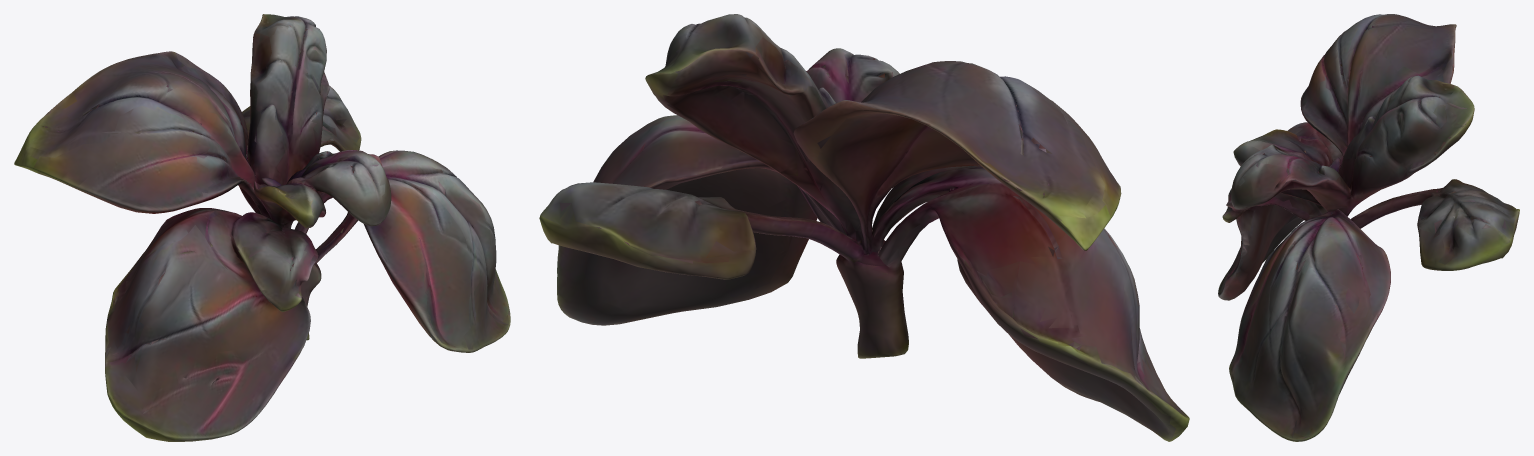
Rendered from Meshy_AI_Purple_Basil_0210153601_texture_decimated.obj.
3 views of the same model, side by side, from view 1: azimuth 30°, elevation 25°; view 2: azimuth 150°, elevation 25°; view 3: azimuth 270°, elevation 25° (orthographic). The views are drawn at different scales.
Visible parts, largest first — view 1: Meshy_AI_Purple_Basil_0210153601_texture; view 2: Meshy_AI_Purple_Basil_0210153601_texture; view 3: Meshy_AI_Purple_Basil_0210153601_texture.
Part boxes in pixels (left/top/right/bottom): Meshy_AI_Purple_Basil_0210153601_texture: left=14, top=14, right=510, bottom=441; Meshy_AI_Purple_Basil_0210153601_texture: left=539, top=14, right=1189, bottom=441; Meshy_AI_Purple_Basil_0210153601_texture: left=1218, top=14, right=1519, bottom=441.
Size of the model in its own units: 2 by 1.36 by 1.26.
